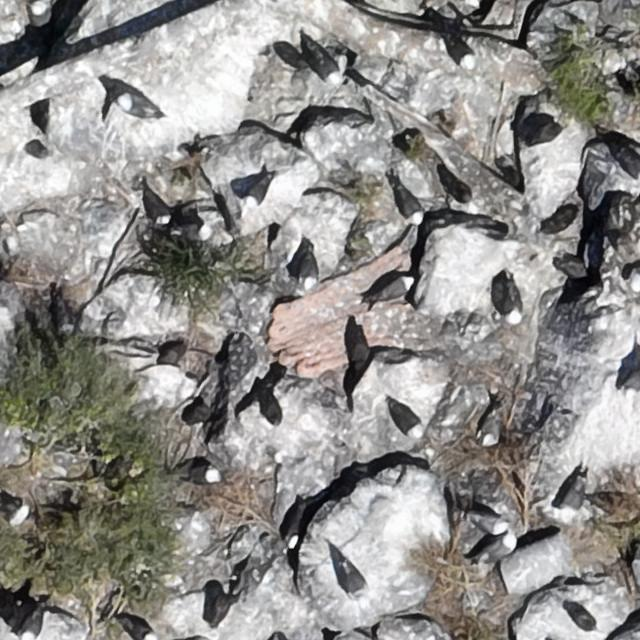umineko: (328, 541, 374, 609), (558, 478, 590, 525), (442, 27, 472, 70), (477, 532, 519, 562), (500, 283, 525, 326), (480, 409, 505, 452), (566, 604, 595, 632), (312, 54, 340, 82), (398, 189, 422, 220), (381, 278, 412, 300), (393, 408, 418, 434), (623, 364, 640, 402), (121, 96, 152, 116), (34, 1, 51, 36), (125, 619, 153, 640), (247, 180, 268, 206), (176, 223, 208, 240), (473, 515, 503, 533), (6, 502, 28, 524), (302, 256, 317, 288), (192, 468, 220, 484), (21, 616, 39, 640)
